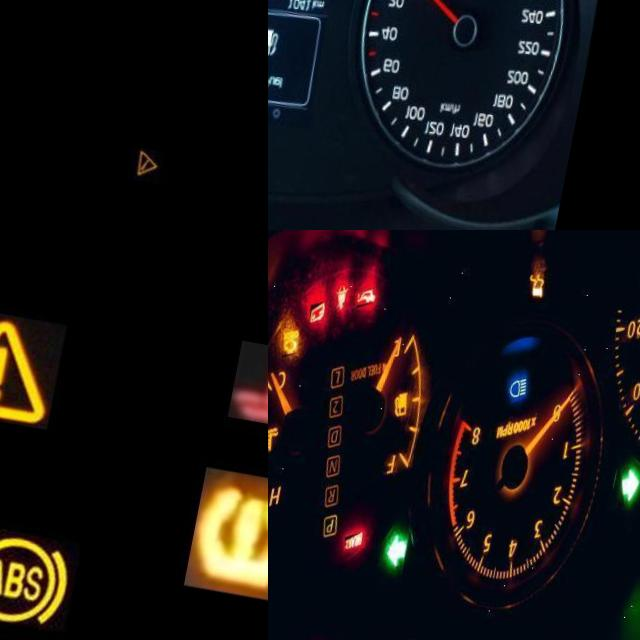Central Warning lamp: (0, 296, 68, 417)
Engine cooling system: (232, 321, 268, 414)
